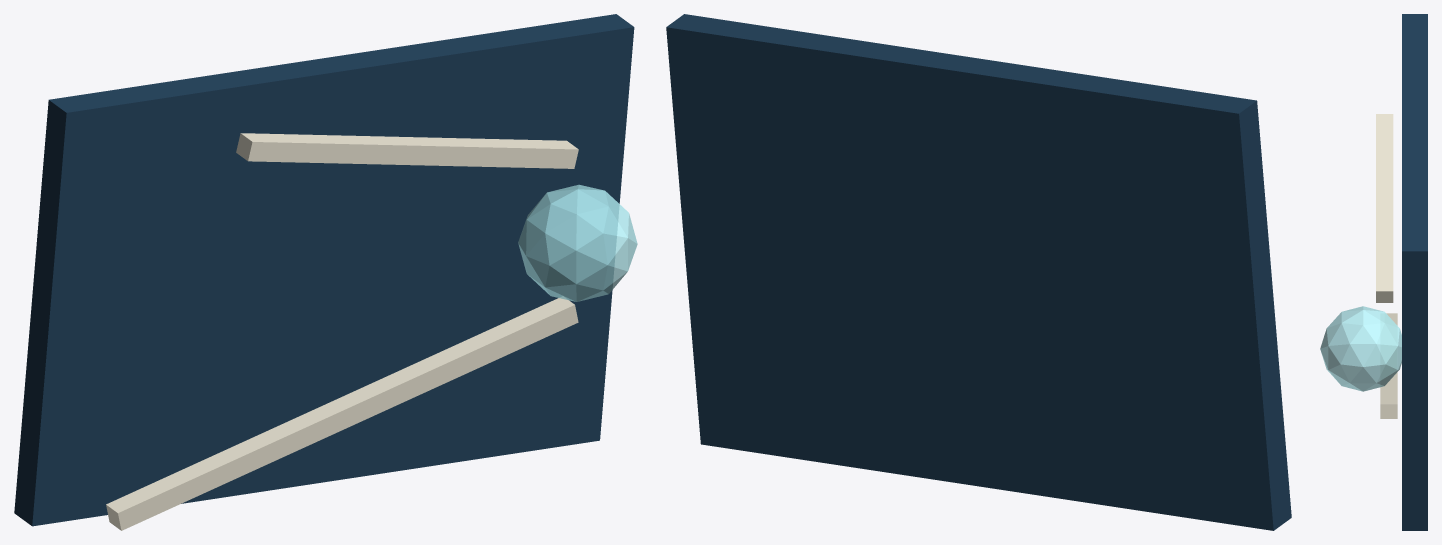
Rendered from 02_world_prop_polish.glb.
3 views of the same model, side by side, from view 1: azimuth 30°, elevation 25°; view 2: azimuth 150°, elevation 25°; view 3: azimuth 270°, elevation 25° (orthographic). The views are drawn at different scales.
Parts seen in each view (by area): view 1: object_overlay_plate, edge_wear_a, glow_socket, edge_wear_b; view 2: object_overlay_plate; view 3: object_overlay_plate, glow_socket, edge_wear_b, edge_wear_a.
Boxes of the visible parts, bbox=[...] form: object_overlay_plate: bbox=[14, 14, 634, 526]; edge_wear_a: bbox=[106, 297, 578, 530]; glow_socket: bbox=[518, 184, 637, 301]; edge_wear_b: bbox=[236, 133, 578, 168]; object_overlay_plate: bbox=[666, 14, 1291, 530]; object_overlay_plate: bbox=[1402, 14, 1427, 530]; glow_socket: bbox=[1320, 306, 1401, 391]; edge_wear_b: bbox=[1376, 114, 1393, 302]; edge_wear_a: bbox=[1380, 313, 1397, 418].
Size of the model in its own units: 1.16 by 0.8444 by 0.25.
